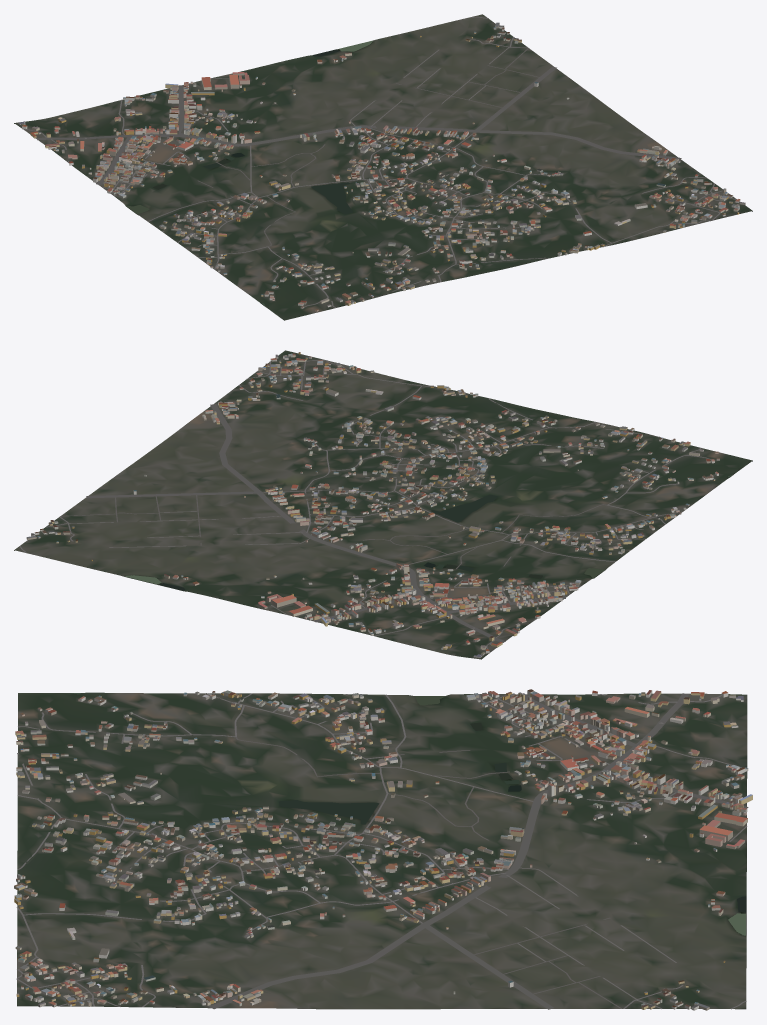
The picture shows the model from 3 angles, top to bottom: view 1: azimuth 30°, elevation 25°; view 2: azimuth 150°, elevation 25°; view 3: azimuth 270°, elevation 25°; orthographic projection. The views are drawn at different scales.
Visible parts, largest first — view 1: ground, buildings, roads, water; view 2: ground, buildings, roads, water; view 3: ground, buildings, roads, water.
Part boxes in pixels (x1,y1,x2,y2): ground: (14, 14, 752, 320); buildings: (18, 22, 745, 311); roads: (23, 17, 736, 307); water: (126, 41, 372, 305); ground: (14, 350, 752, 659); buildings: (26, 352, 719, 657); roads: (19, 360, 710, 652); water: (125, 474, 732, 590); ground: (17, 692, 747, 1009); buildings: (14, 689, 752, 1010); roads: (16, 693, 748, 1009); water: (71, 693, 746, 935).
Size of the model in its own units: 1412 by 33.93 by 1420.
